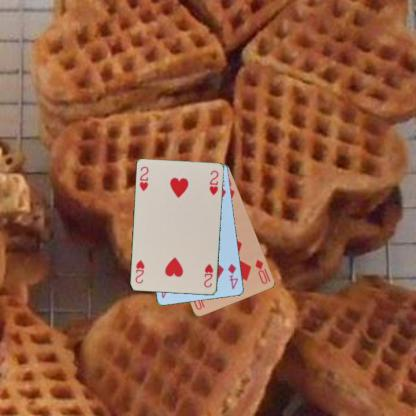10d: (252, 257, 272, 286)
2h: (137, 164, 150, 192), (202, 262, 214, 289)
4d: (225, 261, 240, 290)
